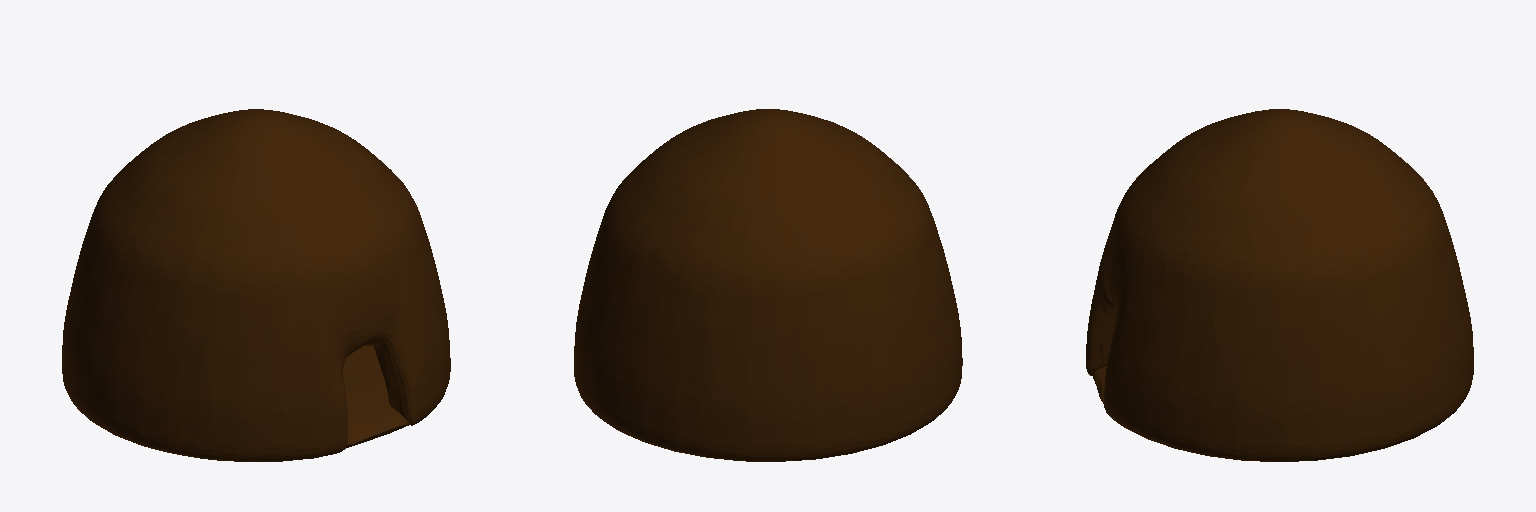
The model's file is Furnace.obj.
3 views of the same model, side by side, from view 1: azimuth 30°, elevation 25°; view 2: azimuth 150°, elevation 25°; view 3: azimuth 270°, elevation 25° (orthographic).
Visible parts, largest first — view 1: Circle, Icosphere; view 2: Circle; view 3: Circle.
Boxes of the visible parts, x1=… form: Circle: x1=62, y1=109, x2=450, y2=461; Icosphere: x1=343, y1=346, x2=408, y2=448; Circle: x1=574, y1=109, x2=962, y2=461; Circle: x1=1086, y1=109, x2=1473, y2=461.
Bounding box in the file's own units: 1.98 × 1.57 × 1.98.